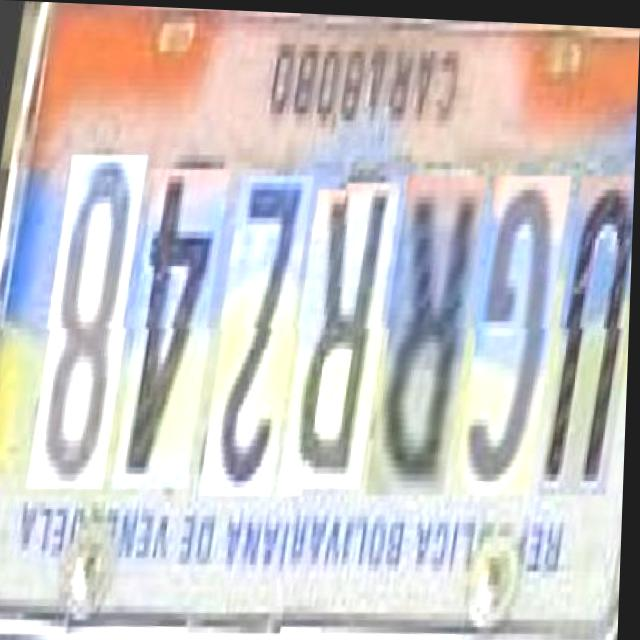2: (196, 159, 305, 486)
4: (109, 151, 220, 478)
8: (24, 138, 138, 478)
g: (450, 165, 561, 492)
r: (361, 165, 476, 493), (274, 172, 392, 485)
u: (534, 166, 636, 493)
